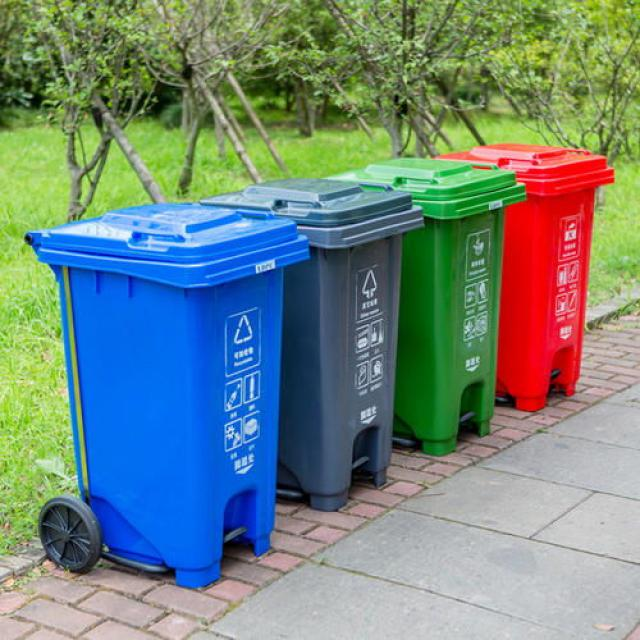garbage_bin: (24, 202, 311, 586), (198, 178, 424, 509), (322, 156, 528, 453), (428, 143, 613, 410)
